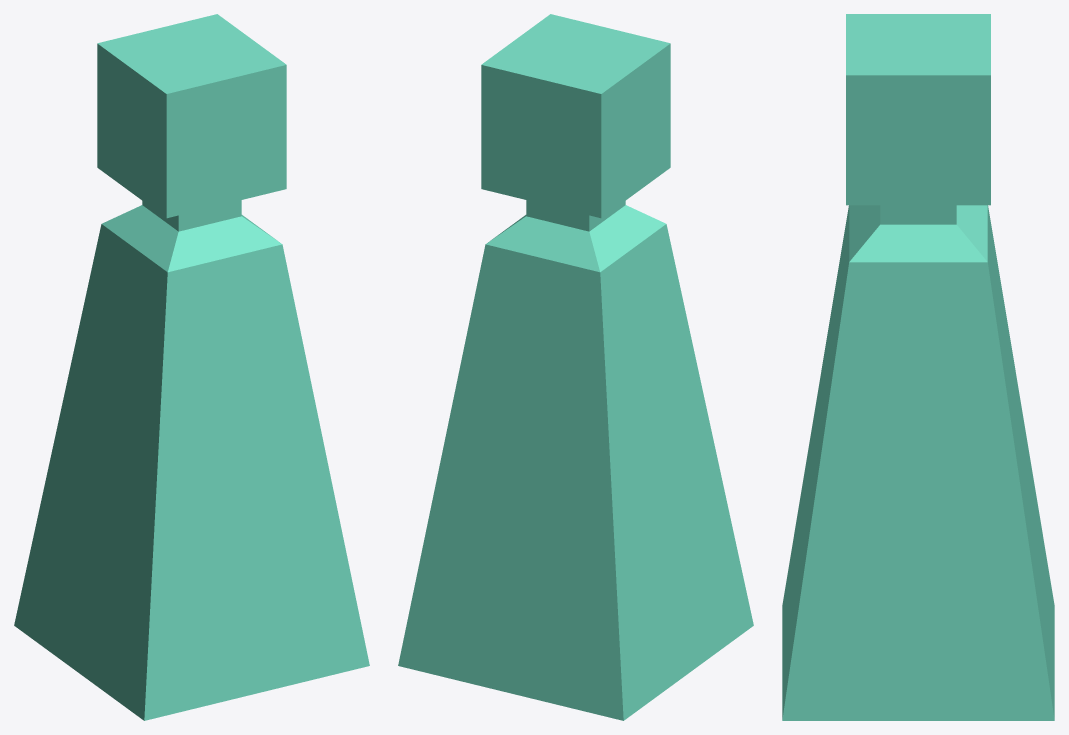
Rendered from player.glb.
3 views of the same model, side by side, from view 1: azimuth 30°, elevation 25°; view 2: azimuth 150°, elevation 25°; view 3: azimuth 270°, elevation 25° (orthographic). The views are drawn at different scales.
Visible parts, largest first — view 1: Player; view 2: Player; view 3: Player.
Part boxes in pixels (box(x1,y1,x2,y2)): Player: box(14, 14, 369, 720); Player: box(398, 14, 753, 720); Player: box(782, 14, 1054, 720).
Size of the model in its own units: 0.238 by 0.5964 by 0.238.
